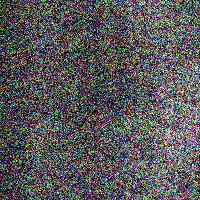crazing: (61, 96, 175, 154), (32, 26, 152, 77), (60, 164, 197, 200)
